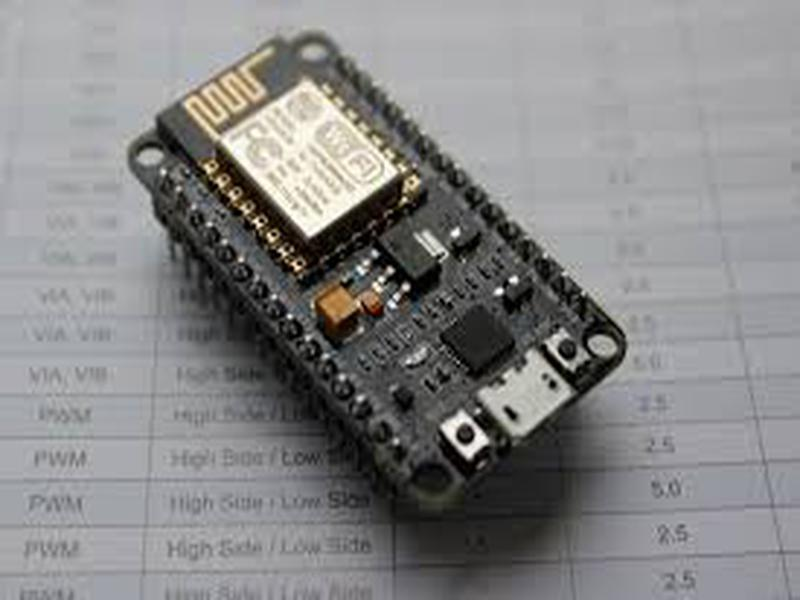NodeMCU: (128, 26, 628, 519)
